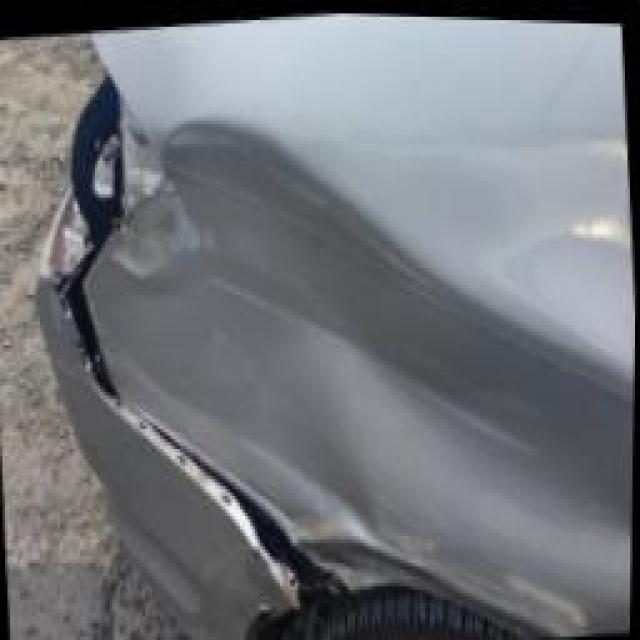Bumper: (85, 479, 202, 640)
Fender: (108, 34, 527, 586)
Light: (8, 74, 150, 266)
